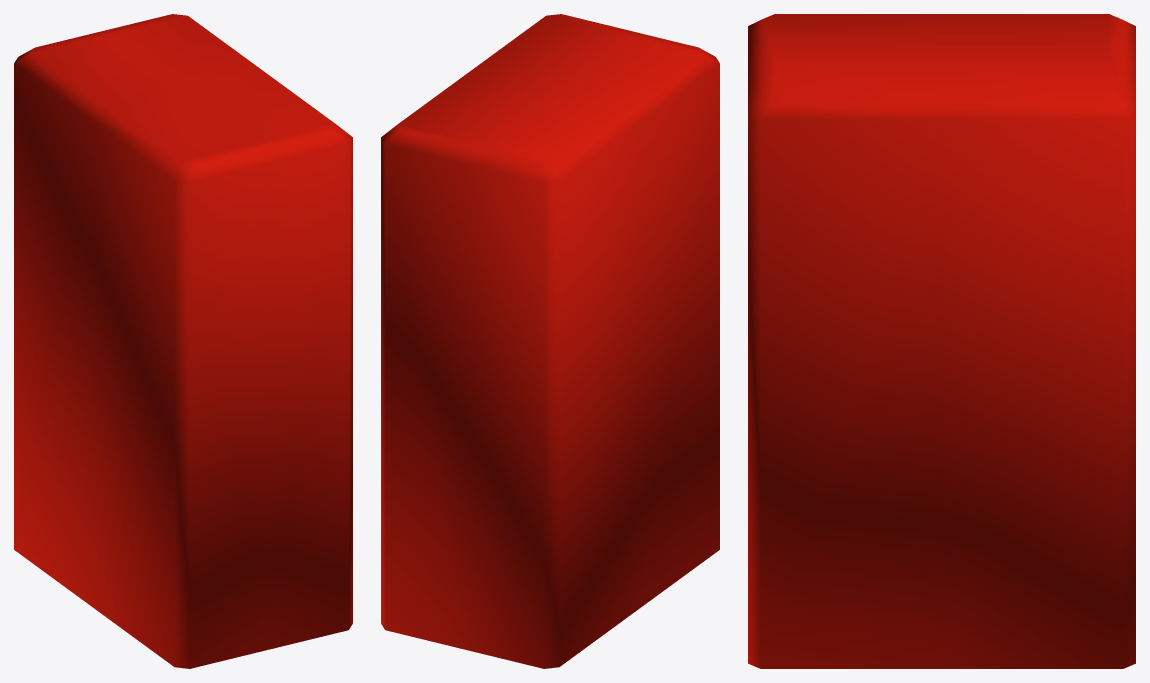
The model's file is IndBuilding1_Deco_Column_Top.fbx.
The picture shows the model from 3 angles, left to right: view 1: azimuth 30°, elevation 25°; view 2: azimuth 150°, elevation 25°; view 3: azimuth 270°, elevation 25°; orthographic projection. The views are drawn at different scales.
Visible parts, largest first — view 1: IndBuilding1_Deco_Column_Top; view 2: IndBuilding1_Deco_Column_Top; view 3: IndBuilding1_Deco_Column_Top.
Part boxes in pixels (box(x1,y1,x2,y2)): IndBuilding1_Deco_Column_Top: box(14, 14, 352, 668); IndBuilding1_Deco_Column_Top: box(381, 14, 719, 668); IndBuilding1_Deco_Column_Top: box(748, 14, 1135, 668).
Size of the model in its own units: 0.6 by 1.6 by 1.
